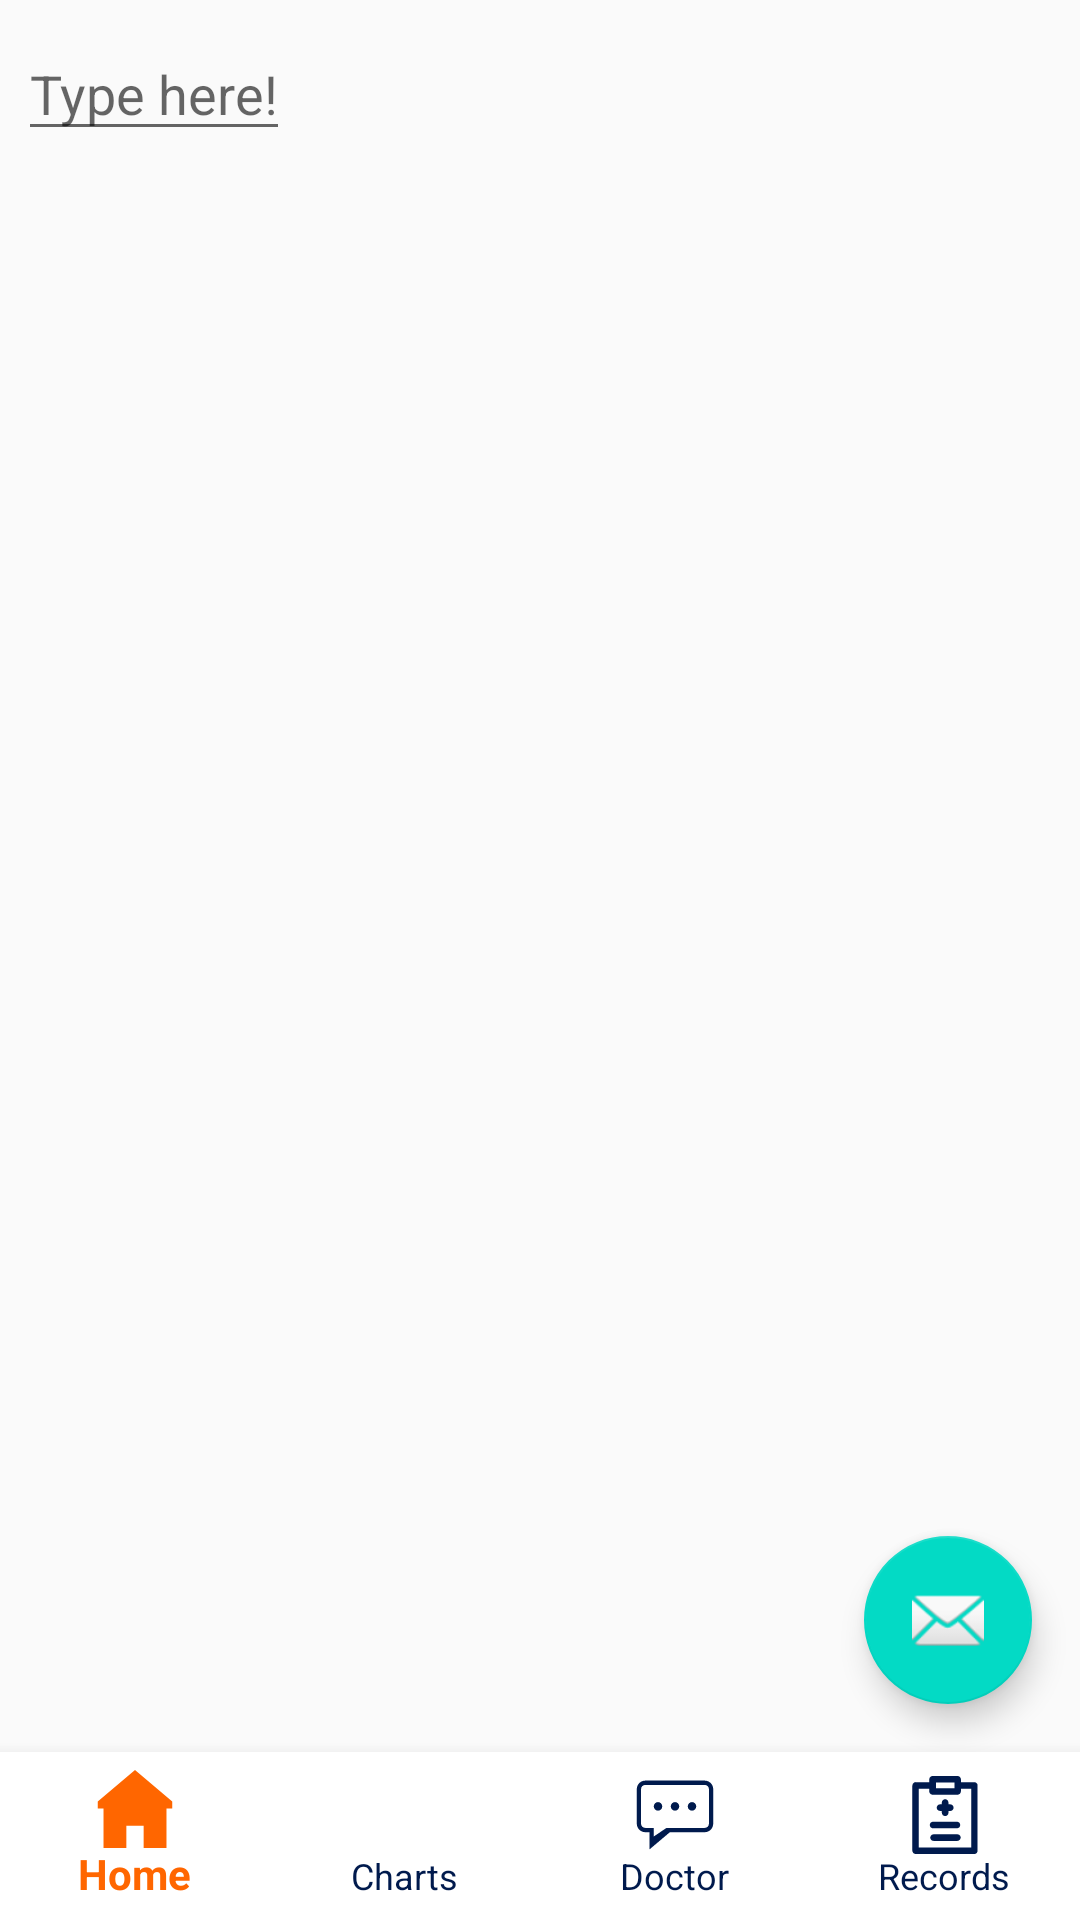

Screen size 1080w x 1920h. Icon name, then its box in pixels as (x1, y1, x2, y2):
email: (864, 1536, 1032, 1704)
